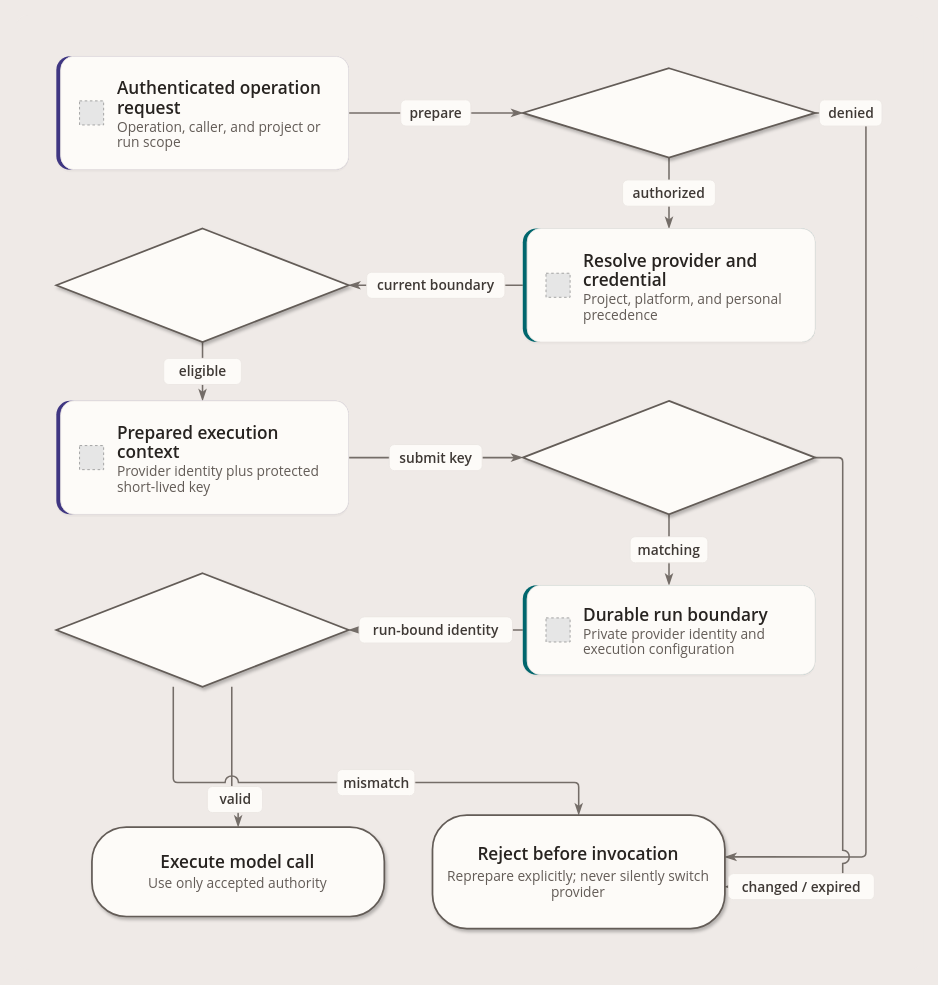
Some shapes in this 938 by 985 pixel diagram are drawn without their labels. Grey dashed boxes stand in for pictures. Here are the shapes that lost their labels. From the top down, the centre of each, then its label:
At point (669, 113): "Caller and scope valid? Operation-specific access rules".
At point (203, 286): "Provider allowed for operation? BYOK support is operation metadata".
At point (669, 458): "Context still matches? Caller, operation, project, expiry, and provider identity".
At point (203, 630): "Point-of-invocation validation Revalidate accepted provider before each attempt".
